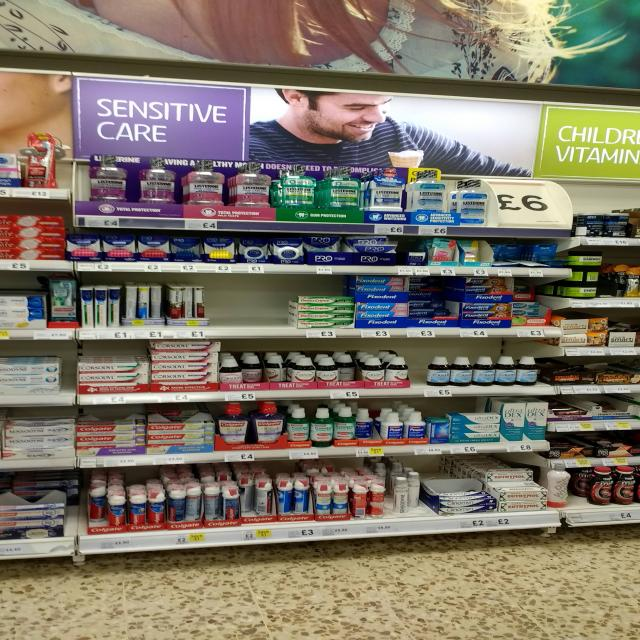void: (213, 281, 290, 324)
